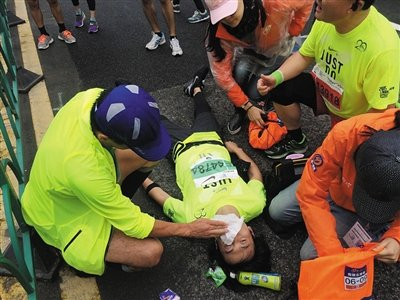fall: (140, 65, 270, 272)
